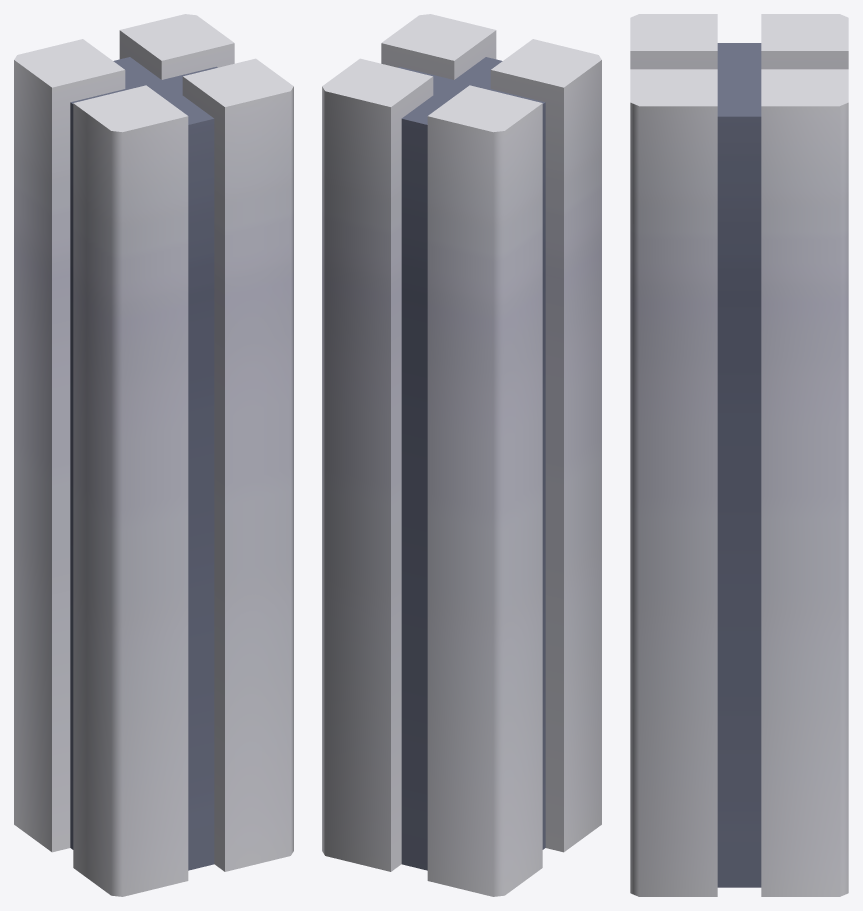
File: low-detail-building-g.glb
3 renders of one model, left to right at view 1: azimuth 30°, elevation 25°; view 2: azimuth 150°, elevation 25°; view 3: azimuth 270°, elevation 25°, orthographic. The views are drawn at different scales.
Parts seen in each view (by area): view 1: low-detail-building-g; view 2: low-detail-building-g; view 3: low-detail-building-g.
Part boxes in pixels (box(x1,y1,x2,y2)): low-detail-building-g: box(14, 14, 293, 896); low-detail-building-g: box(322, 14, 601, 896); low-detail-building-g: box(630, 14, 848, 896).
Size of the model in its own units: 0.5 by 2 by 0.5.
Materials: 1 (1 with a texture image).
